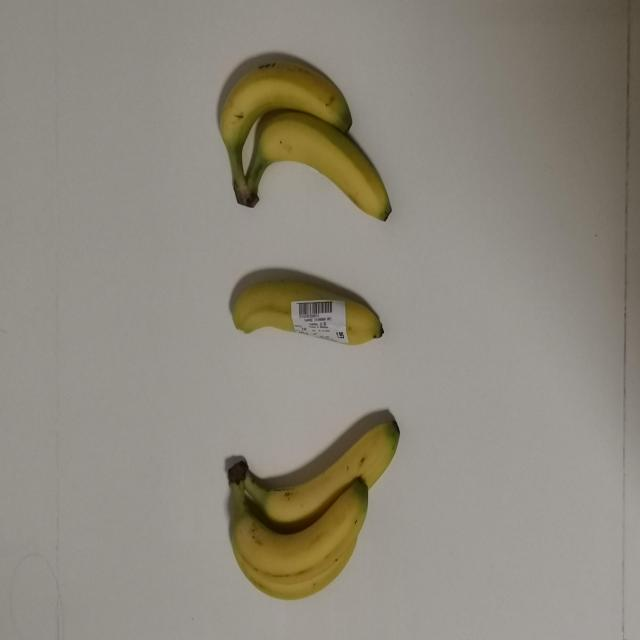Banana: (202, 45, 402, 230), (224, 416, 400, 596), (229, 255, 387, 355)
